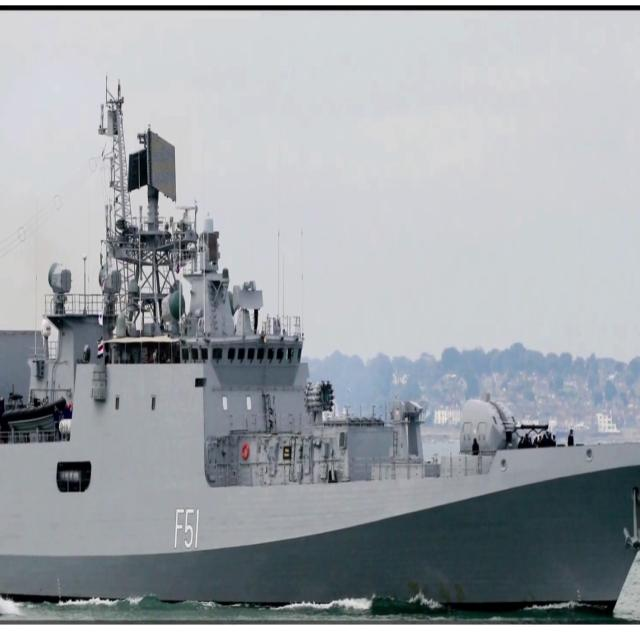OCR: (170, 504, 204, 556)
